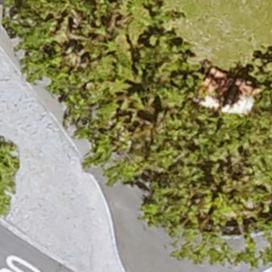tree: (145, 53, 272, 270), (73, 0, 191, 184), (0, 0, 114, 91)
